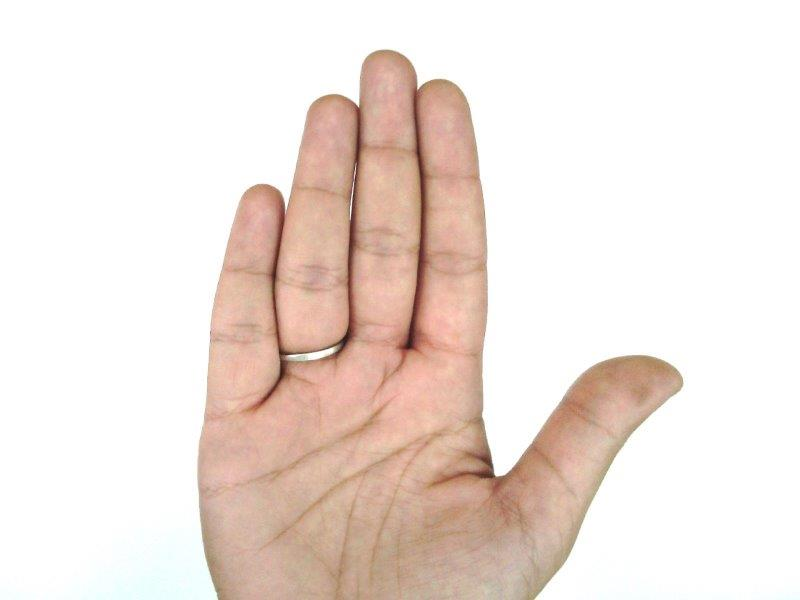hand: (197, 50, 683, 600)
